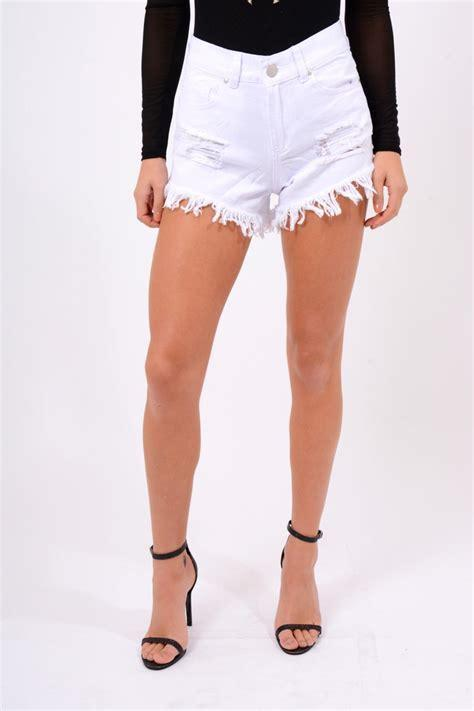short: (159, 35, 372, 236)
